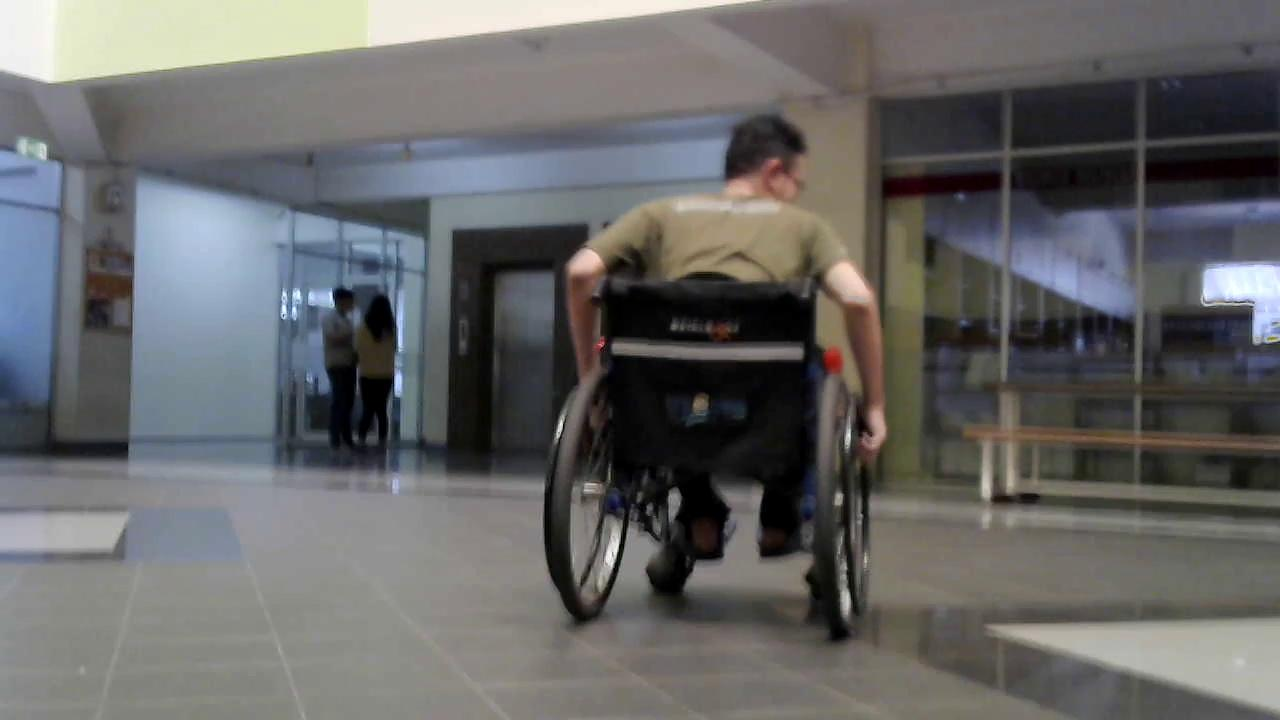person: (555, 110, 890, 556), (353, 291, 399, 451), (321, 284, 362, 454)
wheelchair: (530, 264, 900, 657)
